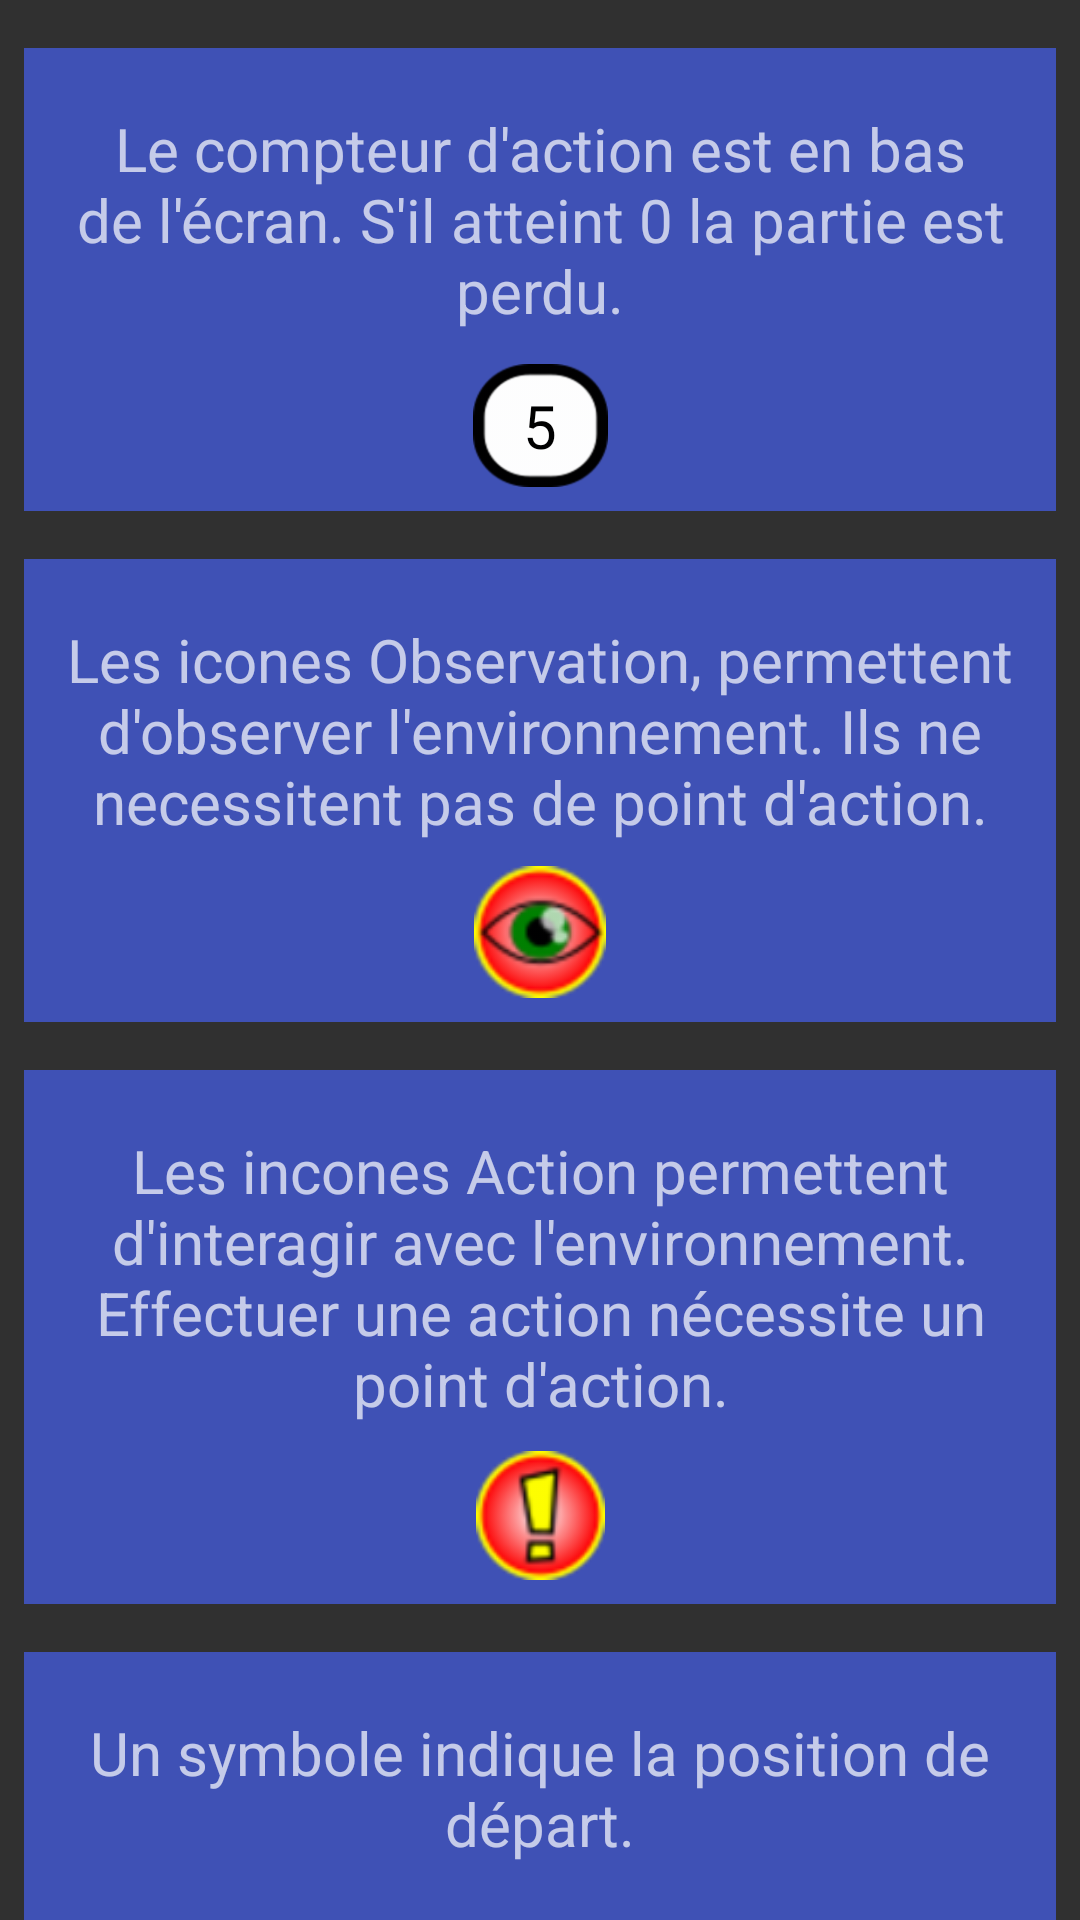

Locate icon controls on the screen. Image size 1080x1920, boxes as bbox=[x1, y1, x2, y2].
buttonaction: bbox=[476, 1451, 605, 1580]
buttonvue: bbox=[474, 866, 606, 998]
